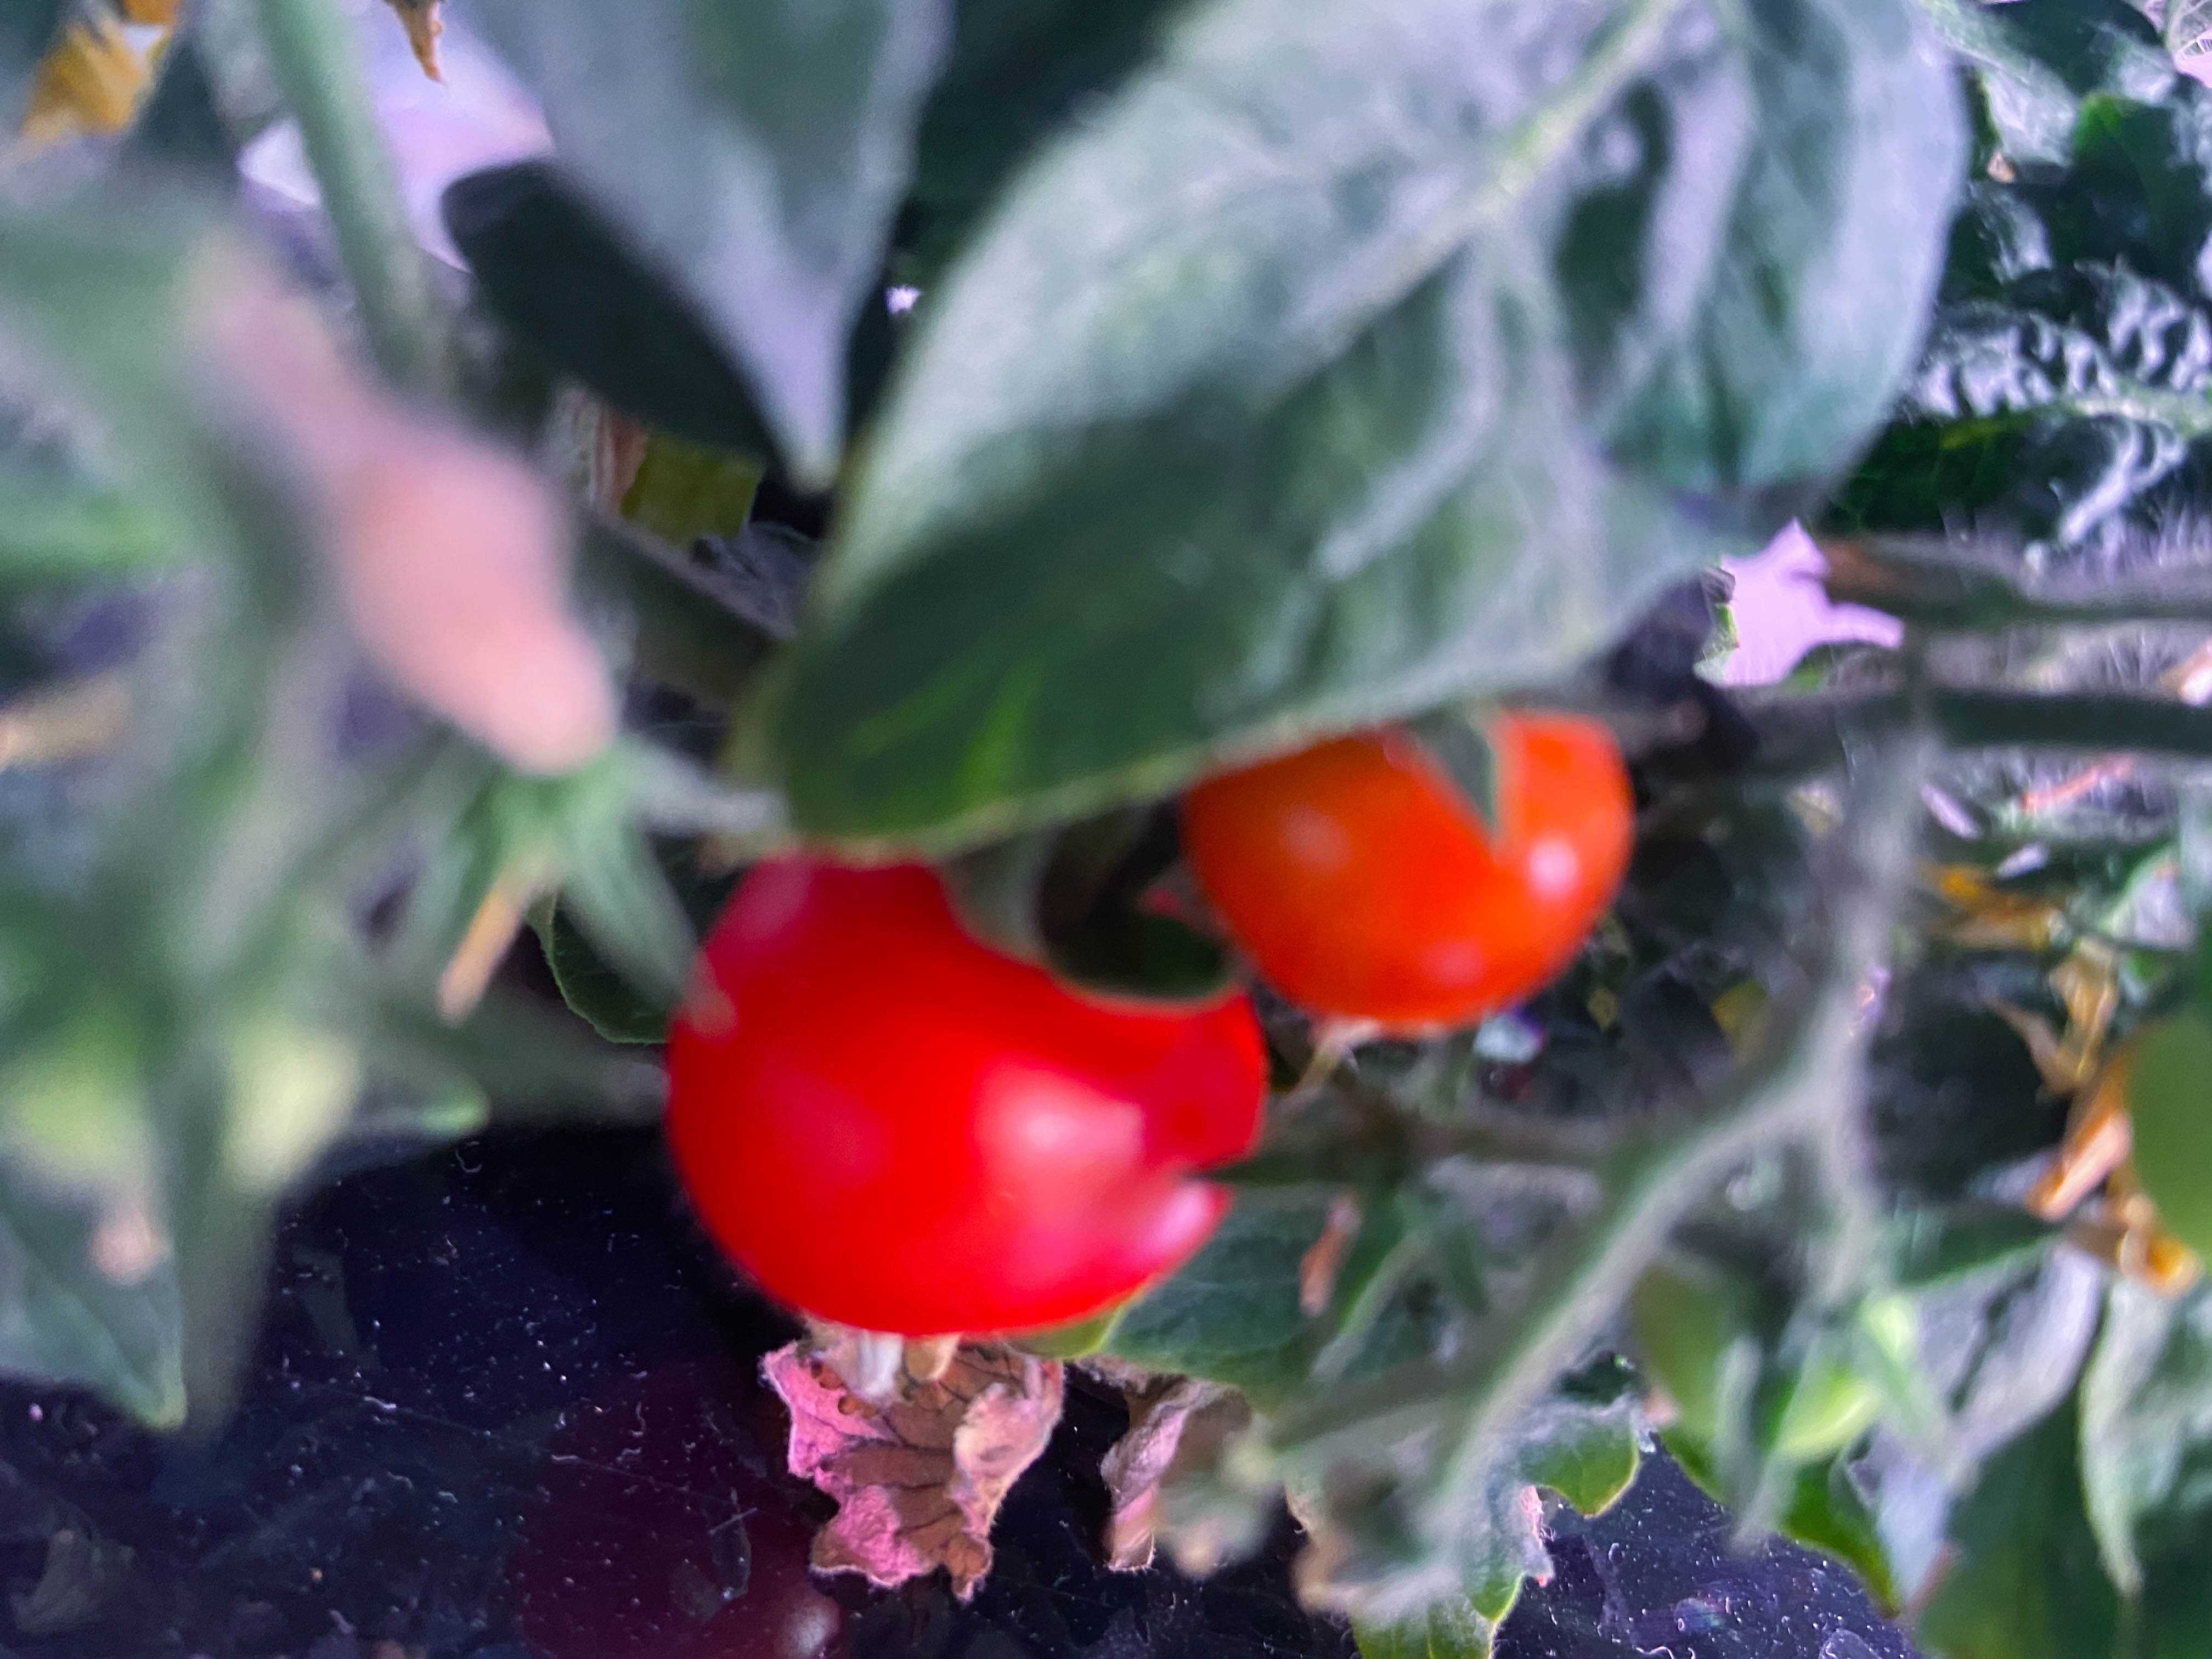red: (669, 831, 1278, 1340), (1179, 674, 1642, 1028)
